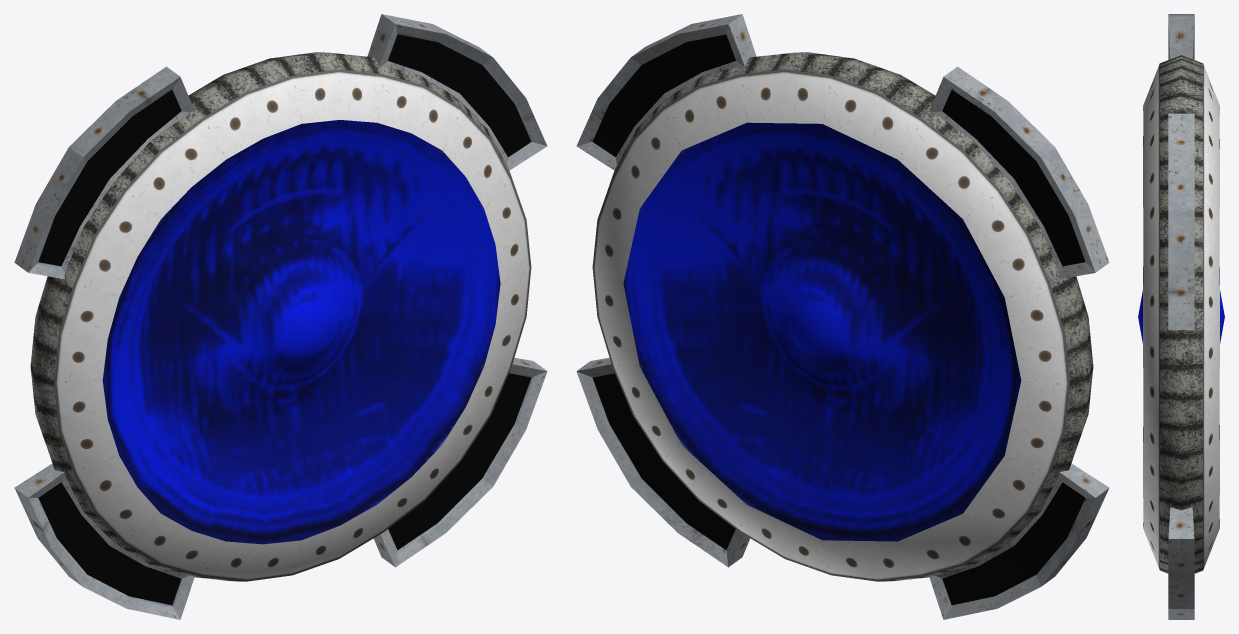
File: Ob_RailSwitchBlue.fbx
3 views of the same model, side by side, from view 1: azimuth 30°, elevation 25°; view 2: azimuth 150°, elevation 25°; view 3: azimuth 270°, elevation 25° (orthographic). The views are drawn at different scales.
Visible parts, largest first — view 1: Ob_RailSwitchBlue; view 2: Ob_RailSwitchBlue; view 3: Ob_RailSwitchBlue.
Part boxes in pixels (x1=…): Ob_RailSwitchBlue: x1=14, y1=14, x2=547, y2=619; Ob_RailSwitchBlue: x1=576, y1=14, x2=1109, y2=619; Ob_RailSwitchBlue: x1=1138, y1=14, x2=1224, y2=619.
Bounding box in the file's own units: 218 × 218 × 34.04.
